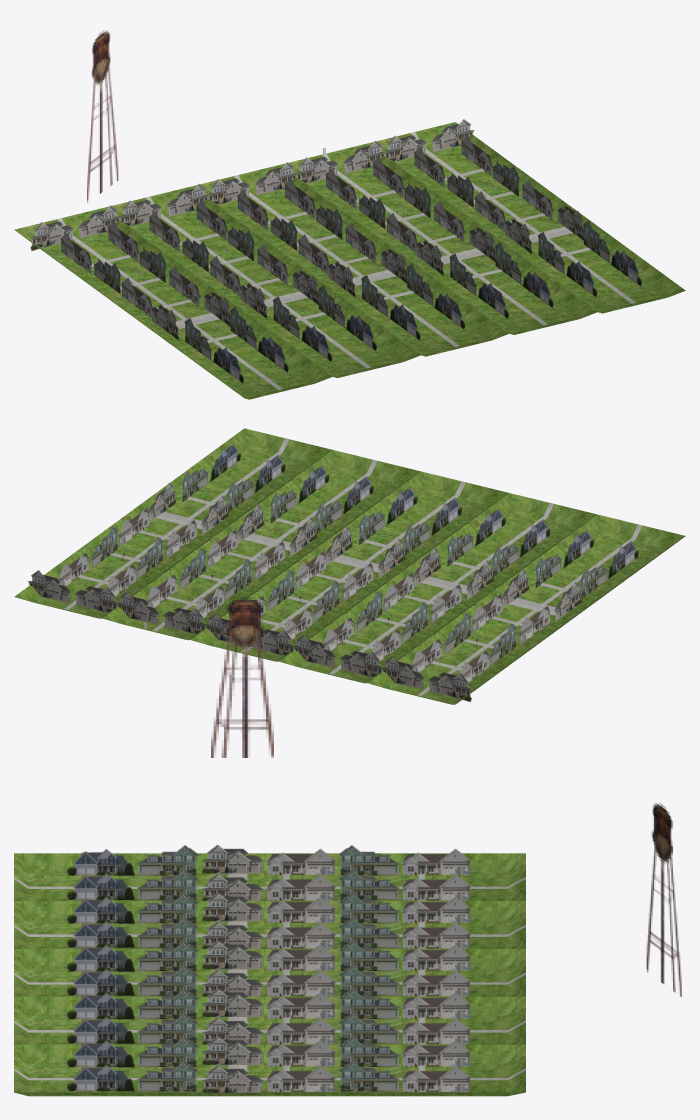
File: neighbourhood.glb
The picture shows the model from 3 angles, top to bottom: view 1: azimuth 30°, elevation 25°; view 2: azimuth 150°, elevation 25°; view 3: azimuth 270°, elevation 25°; orthographic projection. The views are drawn at different scales.
Visible parts, largest first — view 1: grass4, grass3, grass2, grass, grass5, house_0014, house_001, house_0012, house_0013, house_0015, water_tower, grass_path (+9 smaller); view 2: grass4, grass3, grass, grass2, grass5, house_0014, house_0012, house_0013, house_001, house_0015, water_tower, grass_path4 (+9 smaller); view 3: house_0013, house_0015, house_0012, house_001, house_0014, grass3, grass2, grass5, grass4, grass, water_tower.
Part boxes in pixels (x1,y1,x2,y2): grass4: [14, 208, 332, 399]; grass3: [367, 122, 685, 313]; grass2: [279, 143, 597, 334]; grass: [102, 186, 420, 378]; grass5: [191, 165, 508, 356]; house_0014: [30, 205, 288, 383]; house_001: [119, 183, 376, 361]; house_0012: [295, 140, 553, 318]; house_0013: [384, 119, 641, 297]; house_0015: [208, 162, 464, 340]; water_tower: [87, 30, 118, 202]; grass_path: [145, 196, 371, 368]; grass4: [367, 514, 685, 704]; grass3: [14, 428, 332, 618]; grass: [279, 493, 597, 683]; grass2: [102, 450, 420, 640]; grass5: [191, 471, 508, 661]; house_0014: [382, 530, 638, 701]; house_0012: [116, 465, 373, 633]; house_0013: [27, 444, 285, 612]; house_001: [292, 508, 550, 677]; house_0015: [204, 487, 462, 655]; water_tower: [211, 597, 273, 757]; grass_path4: [417, 524, 642, 696]; house_0013: [67, 1036, 470, 1092]; house_0015: [67, 940, 470, 996]; house_0012: [67, 988, 470, 1044]; house_001: [67, 892, 470, 948]; house_0014: [67, 844, 470, 900]; grass3: [14, 1044, 525, 1096]; grass2: [14, 996, 525, 1044]; grass5: [14, 949, 525, 996]; grass4: [14, 853, 525, 900]; grass: [14, 901, 525, 948]; water_tower: [646, 803, 681, 996].
Bounding box in the file's own units: 156 × 55.69 × 184.
9 materials, 9 textured.
